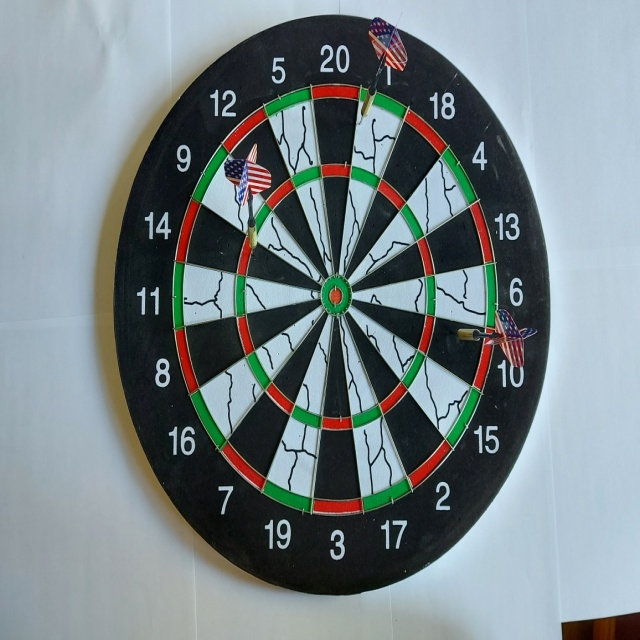Dart: (217, 139, 280, 267), (354, 8, 411, 133), (445, 305, 539, 373)
